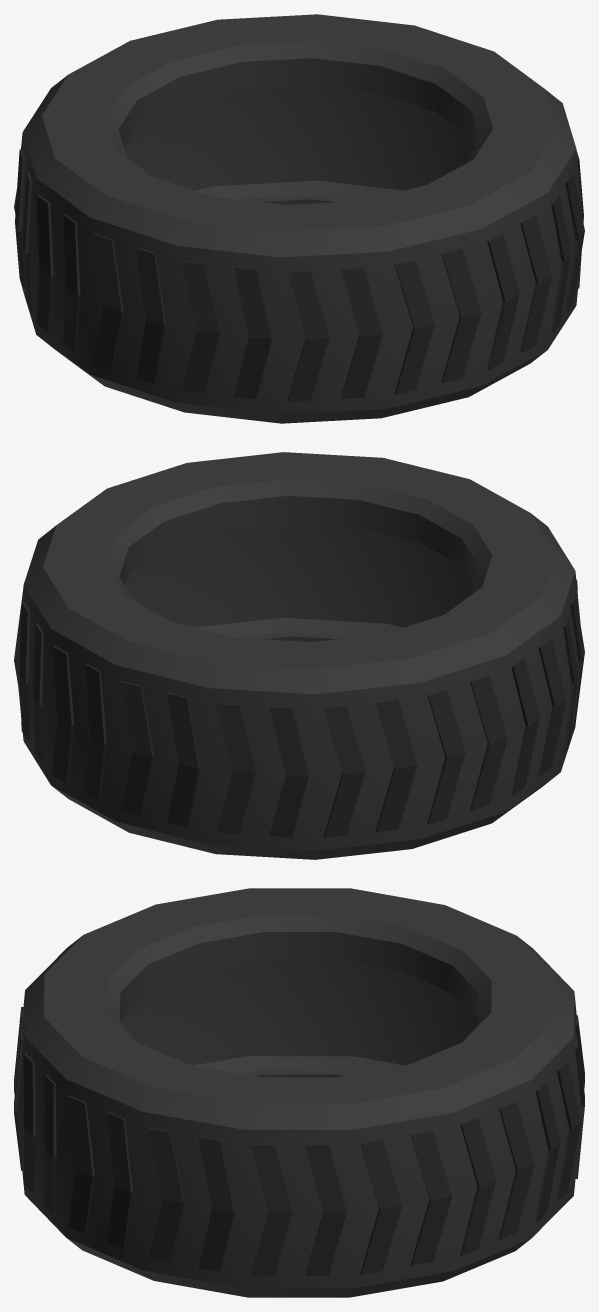
Rendered from SM_IndustrialProps_Wheel_02.fbx.
3 renders of one model, top to bottom at view 1: azimuth 30°, elevation 25°; view 2: azimuth 150°, elevation 25°; view 3: azimuth 270°, elevation 25°, orthographic.
Visible parts, largest first — view 1: SM_IndustrialProps_Wheel_02; view 2: SM_IndustrialProps_Wheel_02; view 3: SM_IndustrialProps_Wheel_02.
Boxes of the visible parts, left/top/right/bottom form: SM_IndustrialProps_Wheel_02: left=14, top=14, right=584, bottom=423; SM_IndustrialProps_Wheel_02: left=14, top=452, right=584, bottom=859; SM_IndustrialProps_Wheel_02: left=14, top=888, right=584, bottom=1297.
Size of the model in its own units: 0.8474 by 0.3167 by 0.8474.
